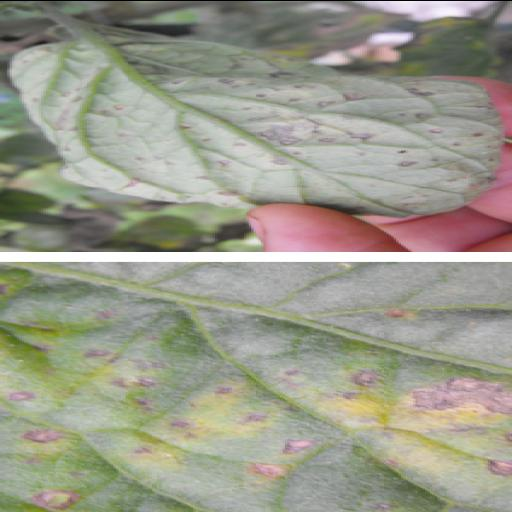Septoria: (0, 263, 512, 512), (17, 28, 500, 228)
